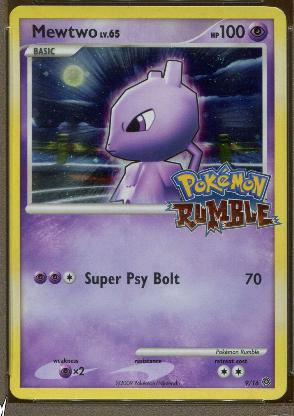Card: (9, 3, 287, 400)
